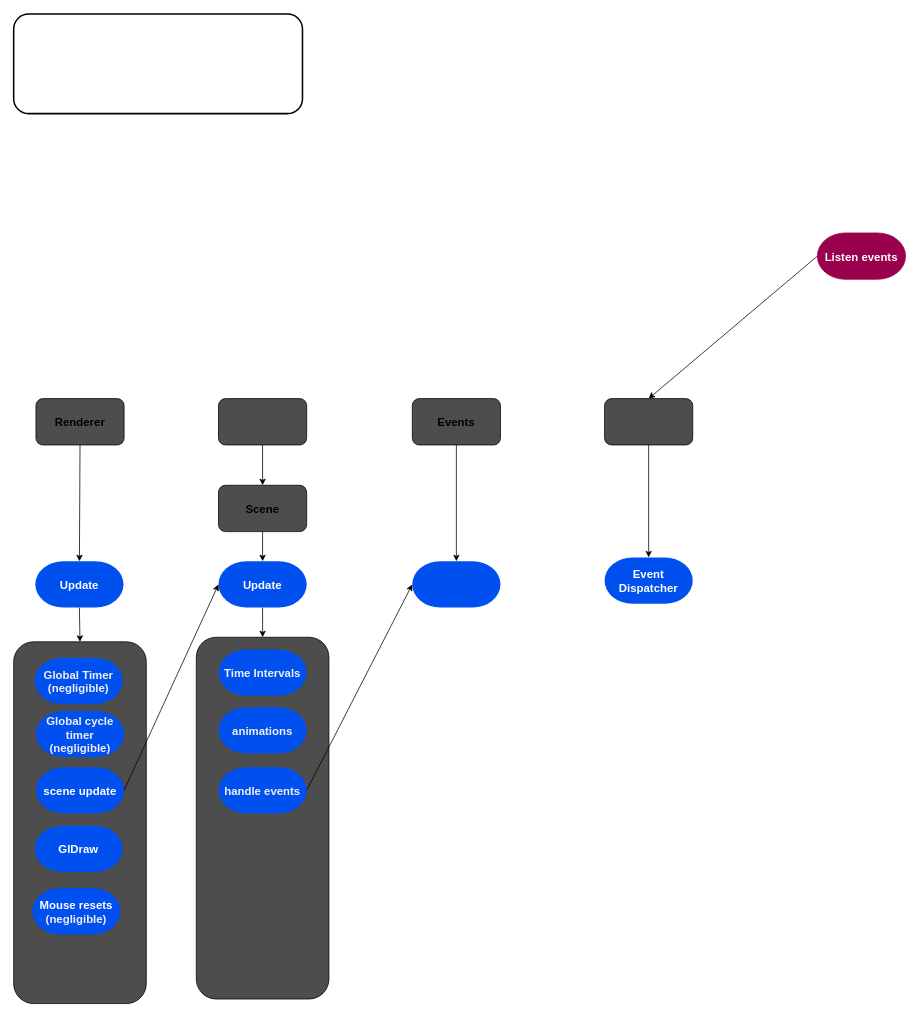
Some shapes in this 919 by 1017 pixel diagram are drawn without their labels. Here are the shapes that lost their labels. From the top down, the centre of each, then its label:
At point 158,63: "Engine Life Cycle".
At point 262,421: "Scenes".
At point 648,421: "Listeners".
At point 456,584: "HandleEvents".
